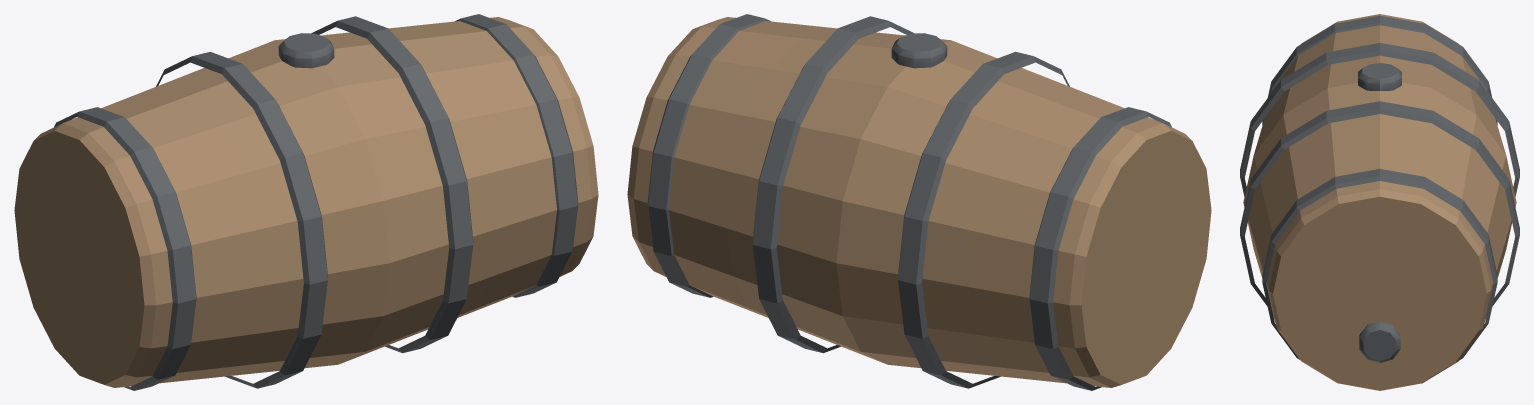
File: bar-pub-and-brewery-taproom-cask-firkin-d51f4c10__18352.glb
3 renders of one model, left to right at view 1: azimuth 30°, elevation 25°; view 2: azimuth 150°, elevation 25°; view 3: azimuth 270°, elevation 25°, orthographic. The views are drawn at different scales.
Visible parts, largest first — view 1: cask-firkin; view 2: cask-firkin; view 3: cask-firkin.
Part boxes in pixels (x1,y1,x2,y2): cask-firkin: (14, 14, 598, 390); cask-firkin: (627, 14, 1211, 390); cask-firkin: (1240, 14, 1519, 390).
Bounding box in the file's own units: 0.616 × 0.3967 × 0.3894.
